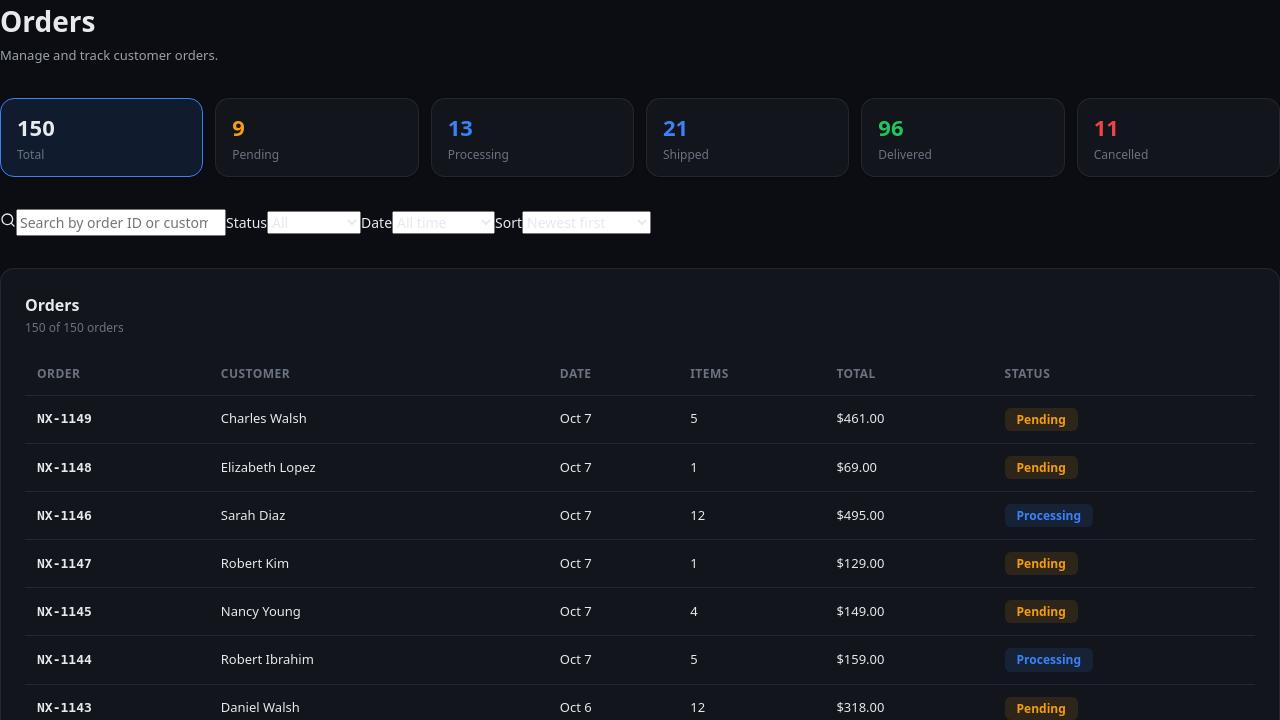
Test: Orders page › filters results as the user types in search
Type "NX-1000" into the search field named "search orders" at x=121, y=222, box [16, 208, 226, 236]
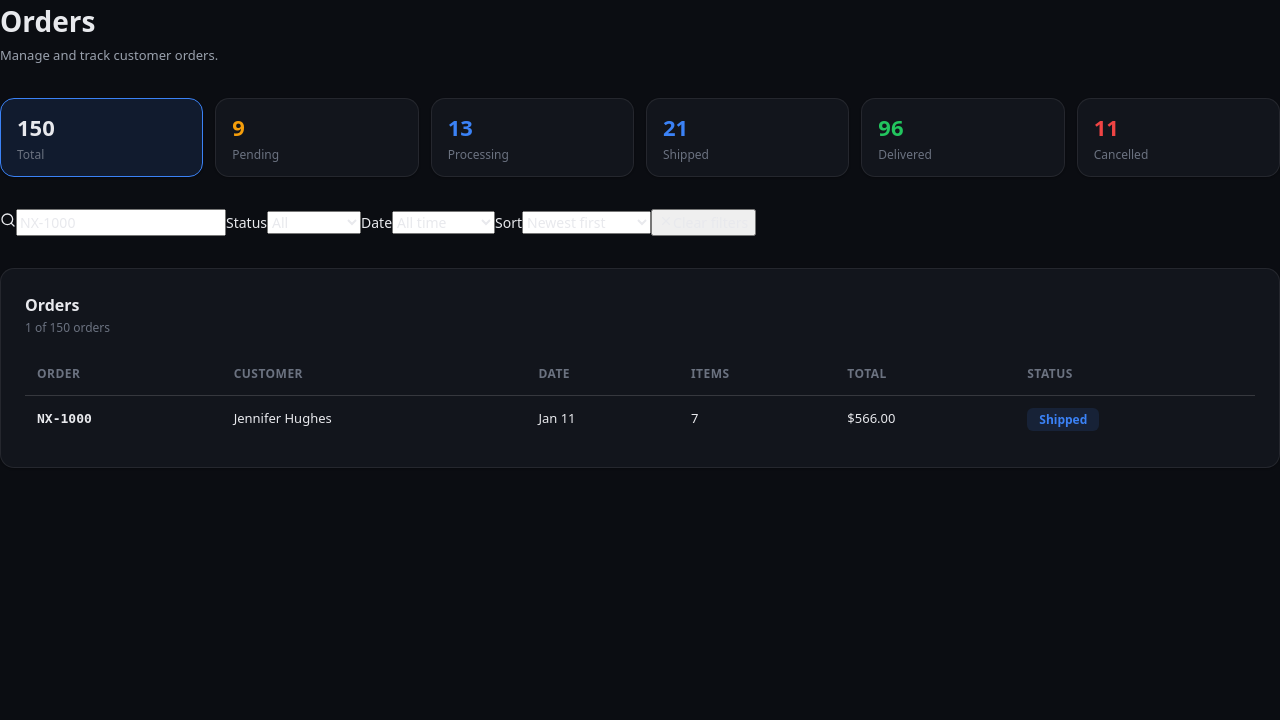
expect the number of buttons named "view order" is 1: met, box [37, 409, 92, 429]
